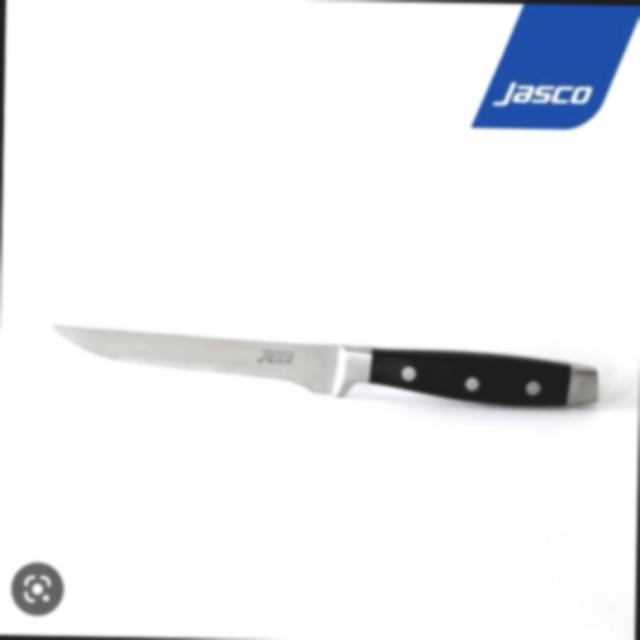knife: (41, 294, 608, 438)
